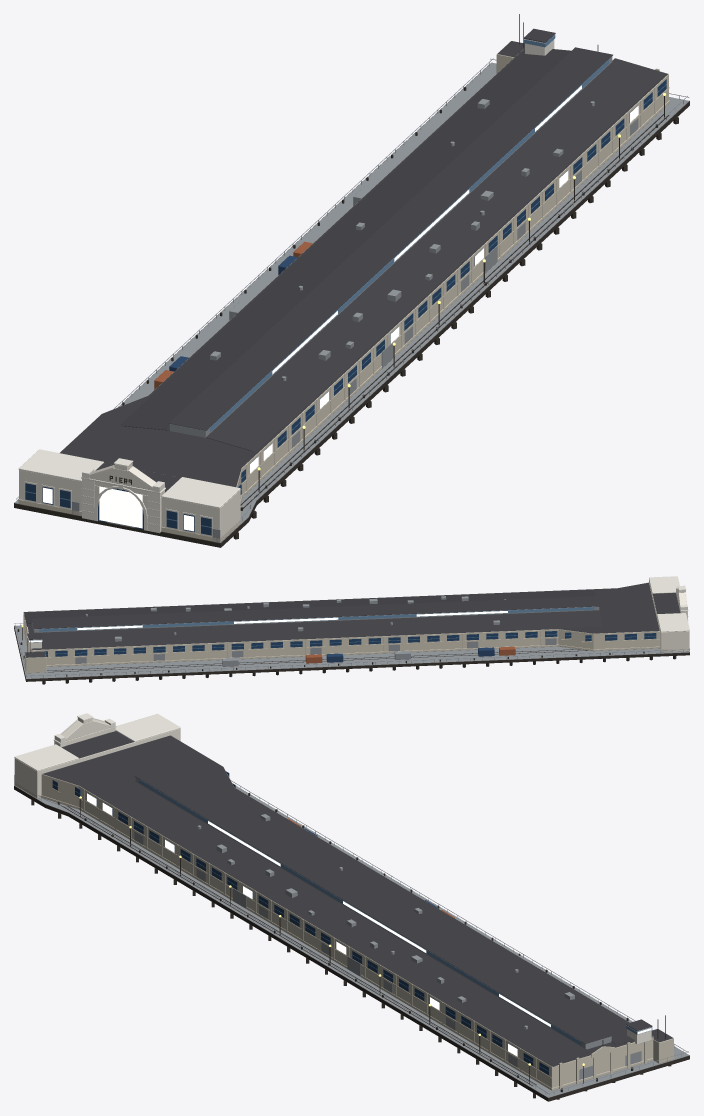
The model's file is pier-9.glb.
The picture shows the model from 3 angles, top to bottom: view 1: azimuth 30°, elevation 25°; view 2: azimuth 150°, elevation 25°; view 3: azimuth 270°, elevation 25°; orthographic projection. The views are drawn at different scales.
Visible parts, largest first — view 1: roof_s, roof_n, mon_cap, deck, shed, roof_head, bulkhead, shed_plinth, mon_glass_se, bulk_cope_nw, bulk_cope_se, arch_glow (+4 smaller); view 2: roof_n, deck, shed, mon_cap, roof_s, roof_head, mon_glass_nw, shed_plinth, monitor, bulkhead, rail_0, bulk_cope_nw (+6 smaller); view 3: roof_s, mon_cap, shed, roof_n, deck, roof_head, bulkhead, shed_plinth, mon_glass_se, monitor, bulk_cope_nw, bulk_cope_se (+3 smaller).
Boxes of the visible parts, x1,y1,x2,y2 form: roof_s: [206, 58, 666, 451]; roof_n: [120, 49, 571, 430]; mon_cap: [168, 47, 612, 430]; deck: [14, 62, 689, 547]; shed: [60, 48, 668, 498]; roof_head: [60, 395, 289, 487]; bulkhead: [19, 463, 240, 542]; shed_plinth: [240, 100, 669, 503]; mon_glass_se: [210, 59, 608, 431]; bulk_cope_nw: [18, 449, 103, 481]; bulk_cope_se: [161, 477, 240, 508]; arch_glow: [99, 486, 142, 528]; roof_n: [29, 610, 602, 649]; deck: [14, 625, 689, 681]; shed: [24, 583, 659, 665]; mon_cap: [31, 596, 599, 628]; roof_s: [23, 590, 595, 623]; roof_head: [549, 582, 659, 633]; mon_glass_nw: [39, 607, 594, 631]; shed_plinth: [24, 631, 659, 666]; monitor: [32, 606, 599, 632]; bulkhead: [649, 579, 689, 651]; rail_0: [26, 649, 689, 676]; bulk_cope_nw: [657, 613, 689, 631]; roof_s: [100, 782, 590, 1066]; mon_cap: [135, 768, 612, 1043]; shed: [41, 735, 653, 1087]; roof_n: [170, 767, 652, 1044]; deck: [14, 785, 689, 1101]; roof_head: [43, 735, 233, 817]; bulkhead: [14, 728, 180, 798]; shed_plinth: [41, 795, 653, 1090]; mon_glass_se: [139, 779, 581, 1045]; monitor: [135, 777, 611, 1049]; bulk_cope_nw: [115, 713, 180, 741]; bulk_cope_se: [14, 744, 78, 771].
Bounding box in the file's own units: 235 × 17.6 × 188.
